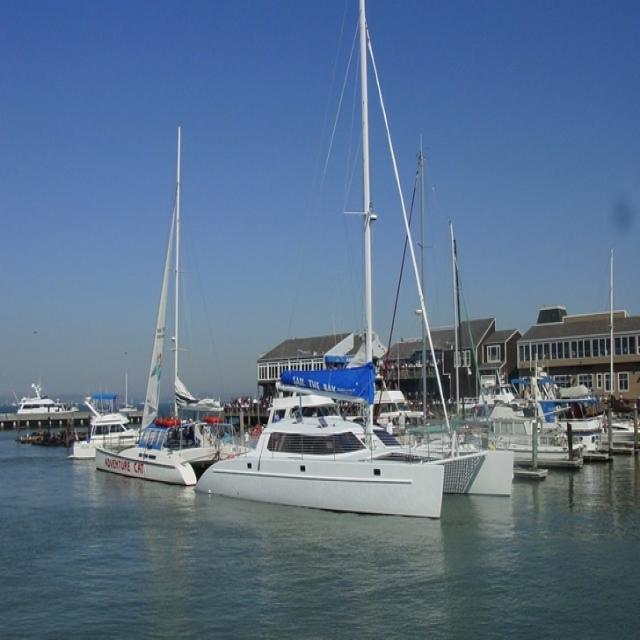passenger ship: (207, 408, 465, 526), (87, 410, 203, 492), (56, 408, 136, 462)
